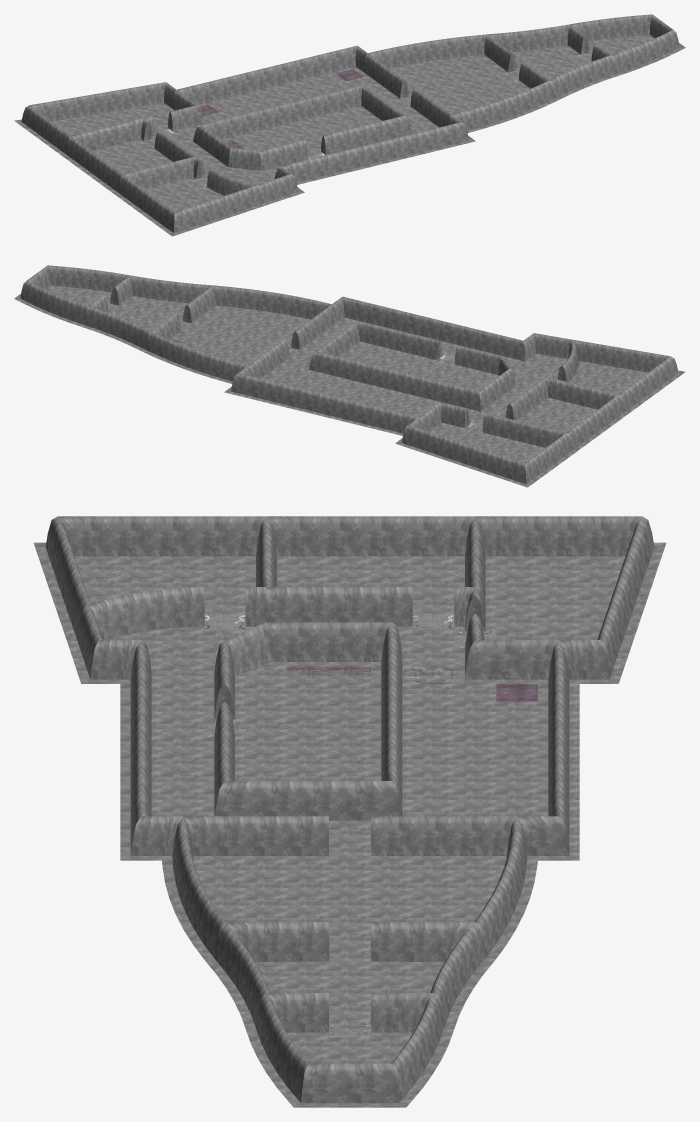
Rendered from level_4.gltf.
3 views of the same model, one above another, from view 1: azimuth 30°, elevation 25°; view 2: azimuth 150°, elevation 25°; view 3: azimuth 270°, elevation 25° (orthographic). The views are drawn at different scales.
Visible parts, largest first — view 1: Mesh_10, Mesh_25, Mesh_64, Mesh_106, Mesh_6, Mesh_74, Mesh_8, Mesh_57, Mesh_34, Mesh_2, Mesh_100, Mesh_13 (+32 smaller); view 2: Mesh_10, Mesh_25, Mesh_64, Mesh_106, Mesh_6, Mesh_74, Mesh_8, Mesh_34, Mesh_57, Mesh_13, Mesh_100, Mesh_11 (+33 smaller); view 3: Mesh_10, Mesh_6, Mesh_8, Mesh_2, Mesh_87, Mesh_89, Mesh_7, Mesh_0, Mesh_1, Mesh_103, Mesh_11, Mesh_76 (+50 smaller).
Part boxes in pixels (x1,y1,x2,y2): Mesh_10: (389,54,526,114); Mesh_25: (281,122,468,182); Mesh_64: (177,45,357,104); Mesh_106: (200,85,362,139); Mesh_6: (198,66,360,122); Mesh_74: (29,82,165,121); Mesh_8: (224,109,369,156); Mesh_57: (368,34,486,68); Mesh_34: (452,80,553,130); Mesh_2: (52,102,171,135); Mesh_100: (321,115,411,154); Mesh_13: (173,185,261,232); Mesh_10: (174,305,310,365); Mesh_25: (342,296,525,361); Mesh_64: (231,373,418,433); Mesh_106: (309,351,480,411); Mesh_6: (273,371,432,416); Mesh_74: (402,425,526,483); Mesh_8: (343,344,494,390); Mesh_34: (213,285,331,319); Mesh_57: (146,331,247,381); Mesh_13: (573,339,670,372); Mesh_100: (358,321,441,359); Mesh_11: (108,296,188,330); Mesh_10: (193,852,506,957); Mesh_6: (412,680,548,816); Mesh_8: (232,666,370,780); Mesh_2: (483,556,625,639); Mesh_87: (266,516,474,556); Mesh_89: (58,516,265,556); Mesh_7: (151,675,216,816); Mesh_0: (74,556,254,622); Mesh_1: (278,556,463,622); Mesh_103: (215,781,401,820); Mesh_11: (258,957,441,1028); Mesh_76: (475,516,641,556).
Size of the model in its own units: 52.02 by 1.55 by 24.63.
Materials: 7 (7 with a texture image).
